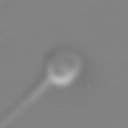normal: (1, 78, 49, 128)
